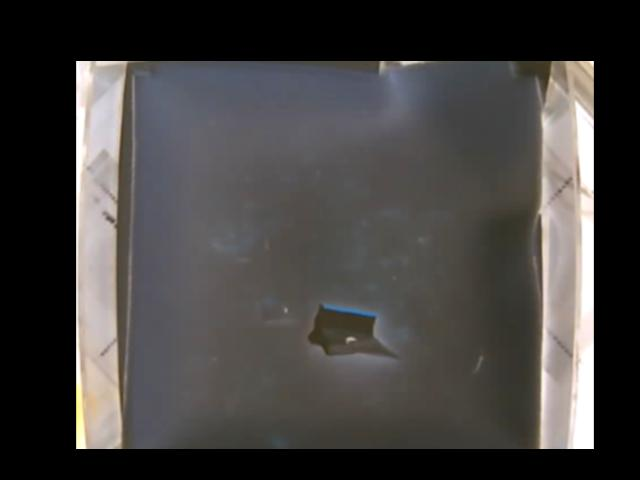China: (301, 306, 402, 362)
